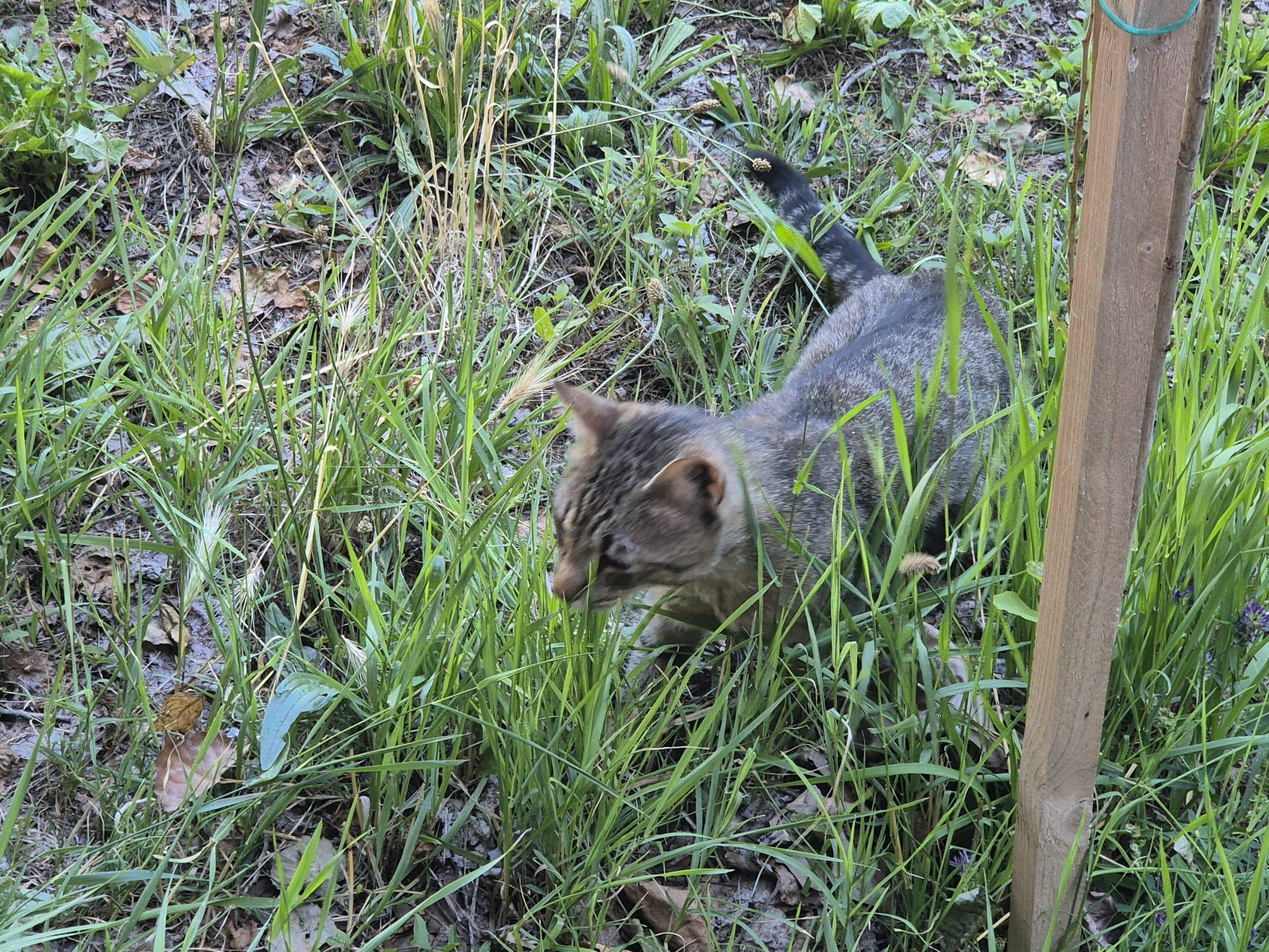macka: (550, 152, 1017, 637)
